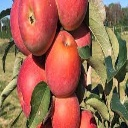apple: (18, 1, 58, 56)
